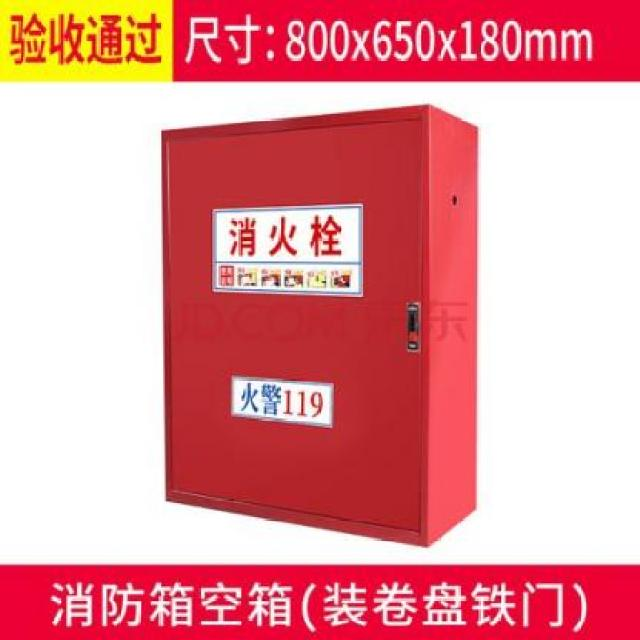firehydrant: (155, 97, 482, 554)
